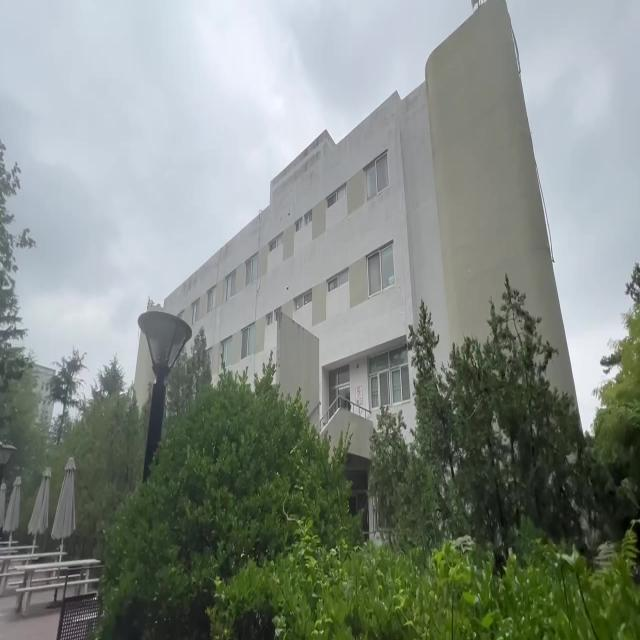building: (208, 46, 552, 350)
